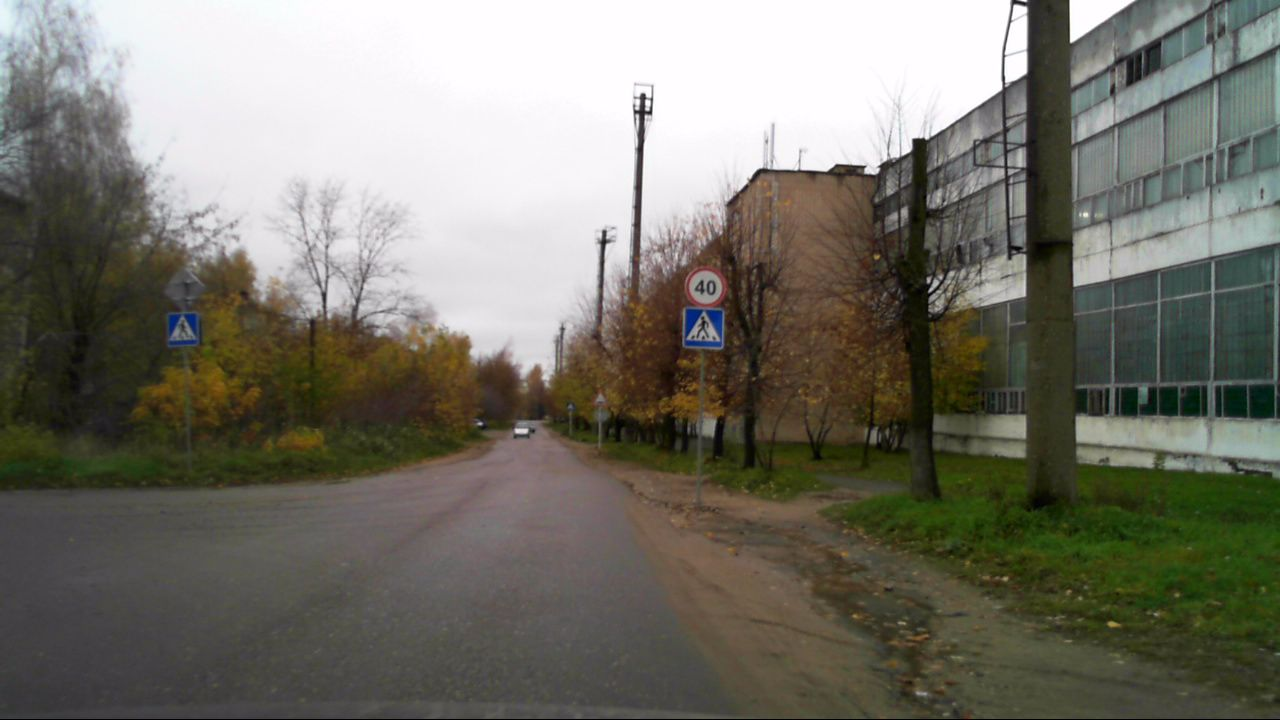speed_warning_40: (685, 265, 727, 308)
